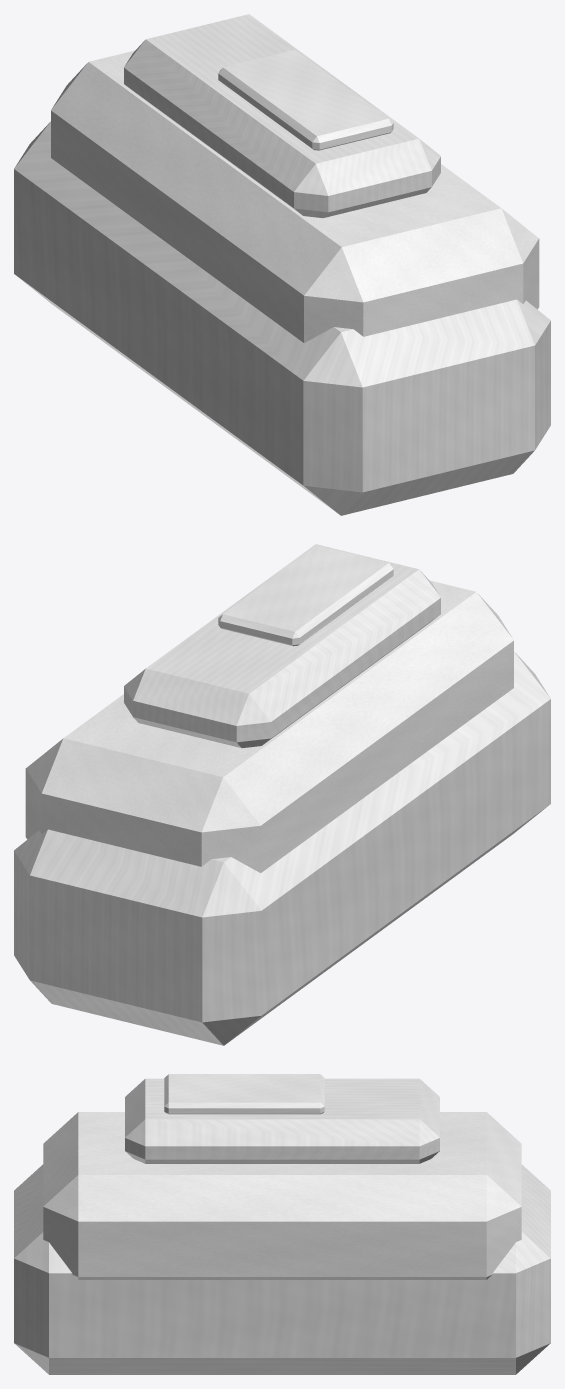
Rendered from Field_Medic_Forearm_Guard_L_Scanner_LOD0.glb.
3 views of the same model, one above another, from view 1: azimuth 30°, elevation 25°; view 2: azimuth 150°, elevation 25°; view 3: azimuth 270°, elevation 25° (orthographic). The views are drawn at different scales.
Parts seen in each view (by area): view 1: Field_Medic_Forearm_Guard_L_Scanner_LOD0; view 2: Field_Medic_Forearm_Guard_L_Scanner_LOD0; view 3: Field_Medic_Forearm_Guard_L_Scanner_LOD0.
Part boxes in pixels (x1,y1,x2,y2): Field_Medic_Forearm_Guard_L_Scanner_LOD0: [14, 14, 550, 515]; Field_Medic_Forearm_Guard_L_Scanner_LOD0: [14, 544, 550, 1045]; Field_Medic_Forearm_Guard_L_Scanner_LOD0: [14, 1074, 550, 1374].
Size of the model in its own units: 0.081 by 0.0955 by 0.184.
Materials: 3 (3 with a texture image).
